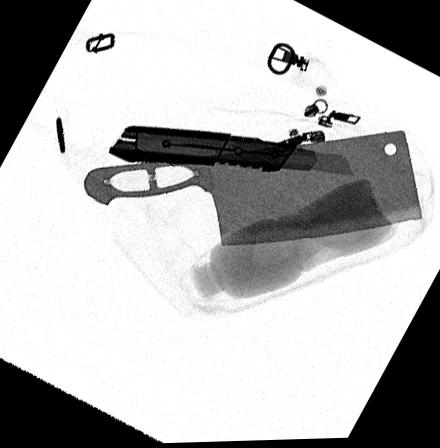Knife: (82, 131, 423, 248), (107, 125, 355, 178)
